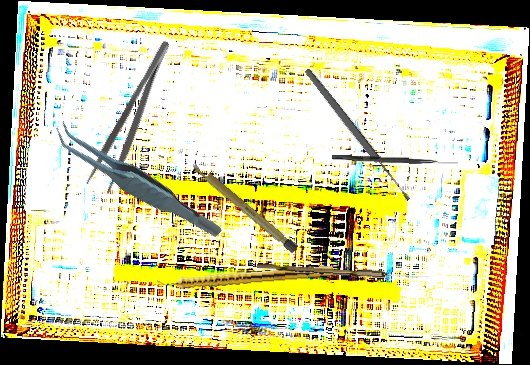Dressing Forceps: (83, 38, 186, 196)
Handpiece: (156, 261, 334, 292)
Hook Surgical: (331, 154, 459, 166)
Scalpel Handle: (190, 160, 299, 254)
Surgical Spoon: (302, 66, 413, 204), (256, 263, 430, 281)
Tissue Forceps: (49, 94, 225, 269)
